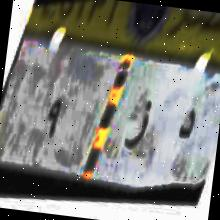9: (38, 89, 66, 154)
daal: (169, 99, 201, 152)
zay: (116, 86, 157, 158)
